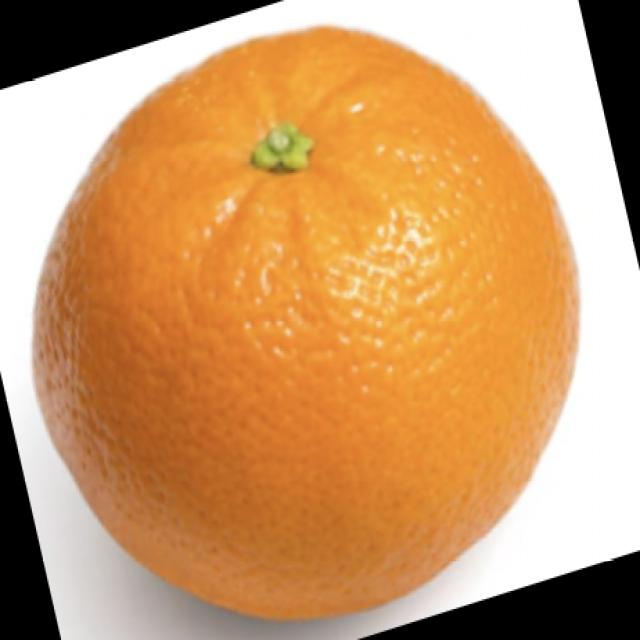fresh: (31, 16, 600, 634)
